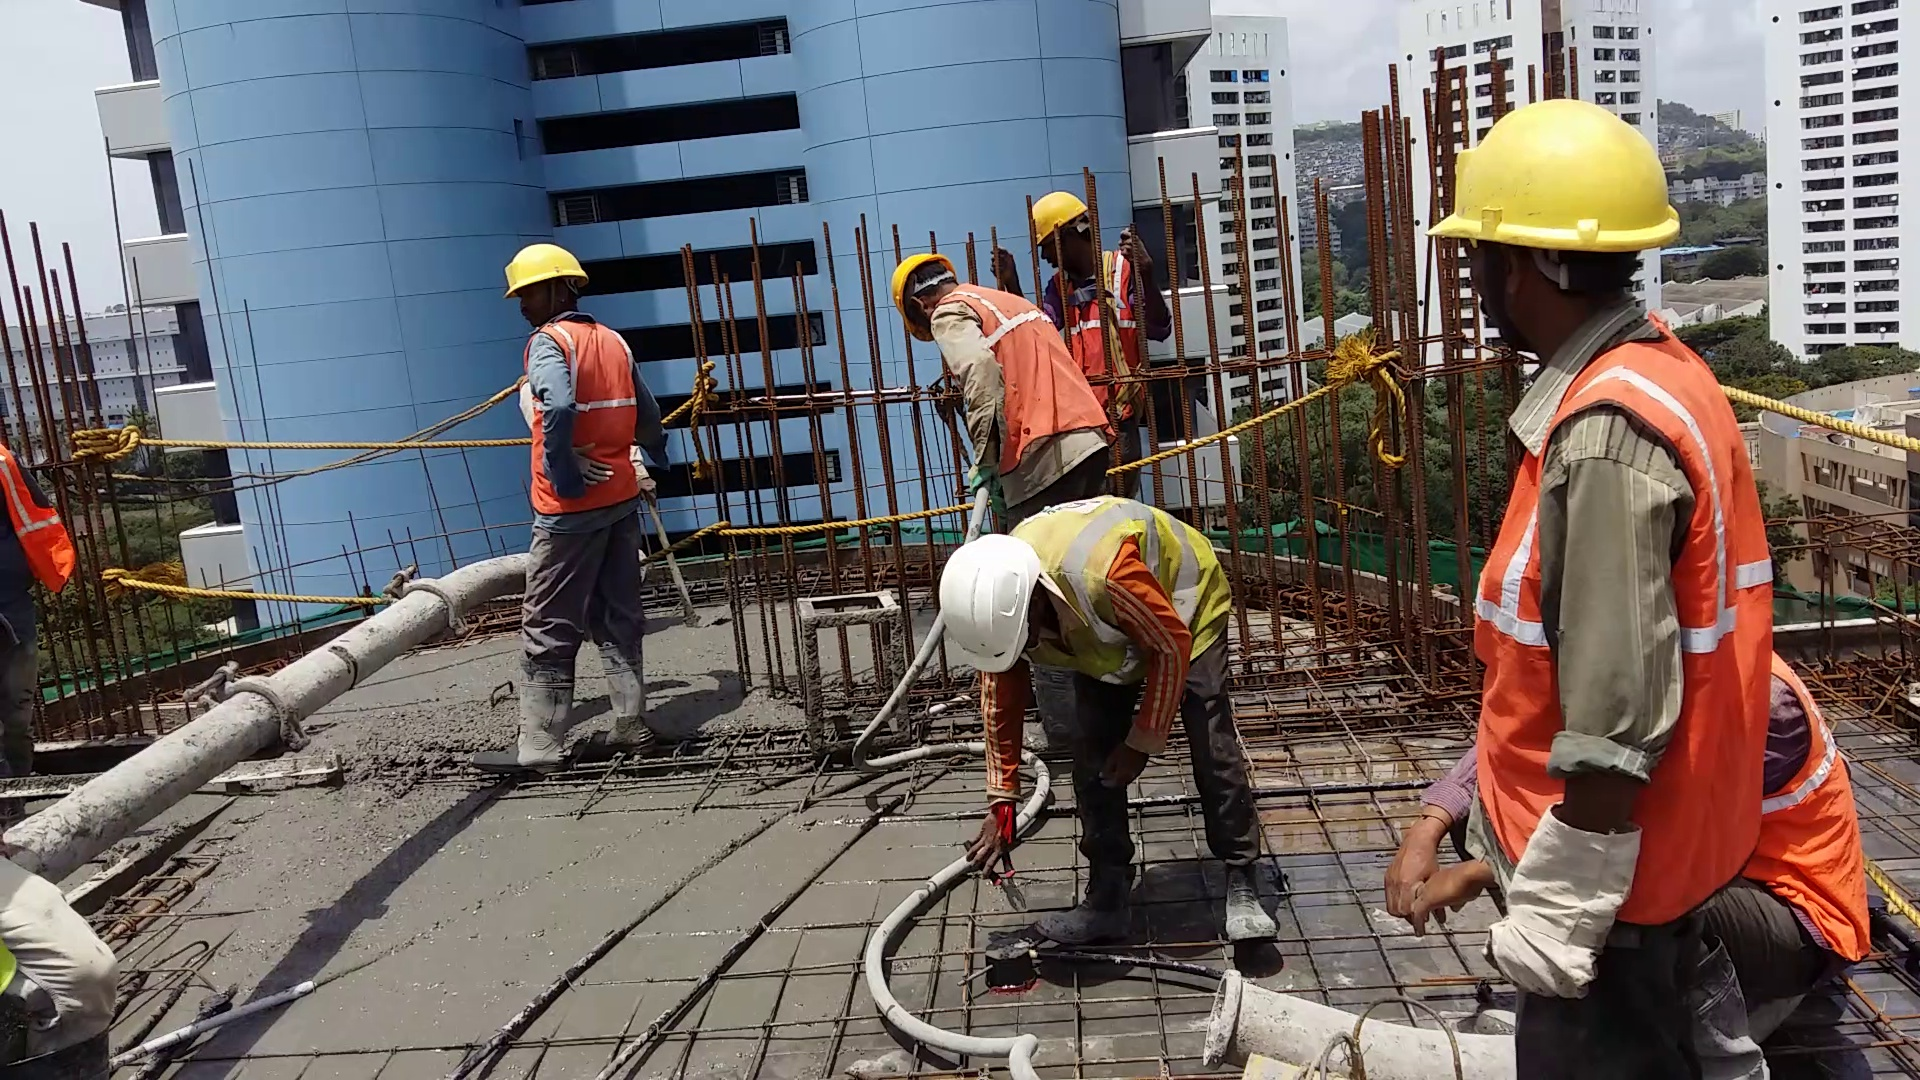SAFE: (1456, 95, 1760, 887), (939, 479, 1232, 694), (887, 249, 1116, 465), (506, 244, 646, 521)
